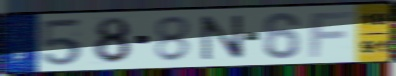5: (39, 16, 84, 67)
6: (261, 11, 302, 61)
8: (90, 16, 134, 66), (153, 15, 193, 63)
F: (307, 10, 356, 59)
N: (198, 14, 248, 62)
